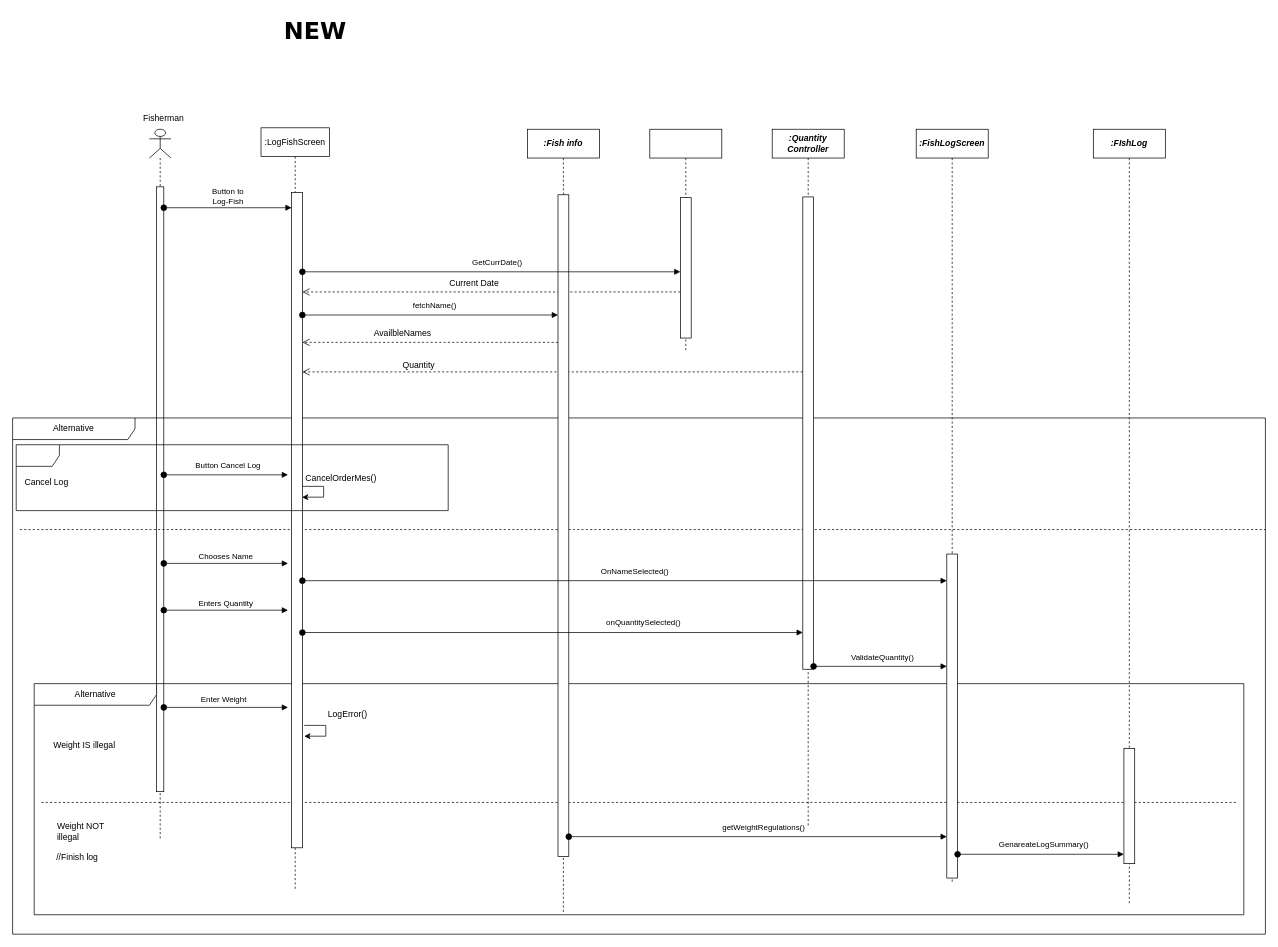
Image size: 1278x947. Some labels were removed from this diagram. Here are the shapes that lost their labels. From the top down, the box of each, then its label:
(649, 129, 722, 351): :DateController
(15, 444, 448, 511): Loop
